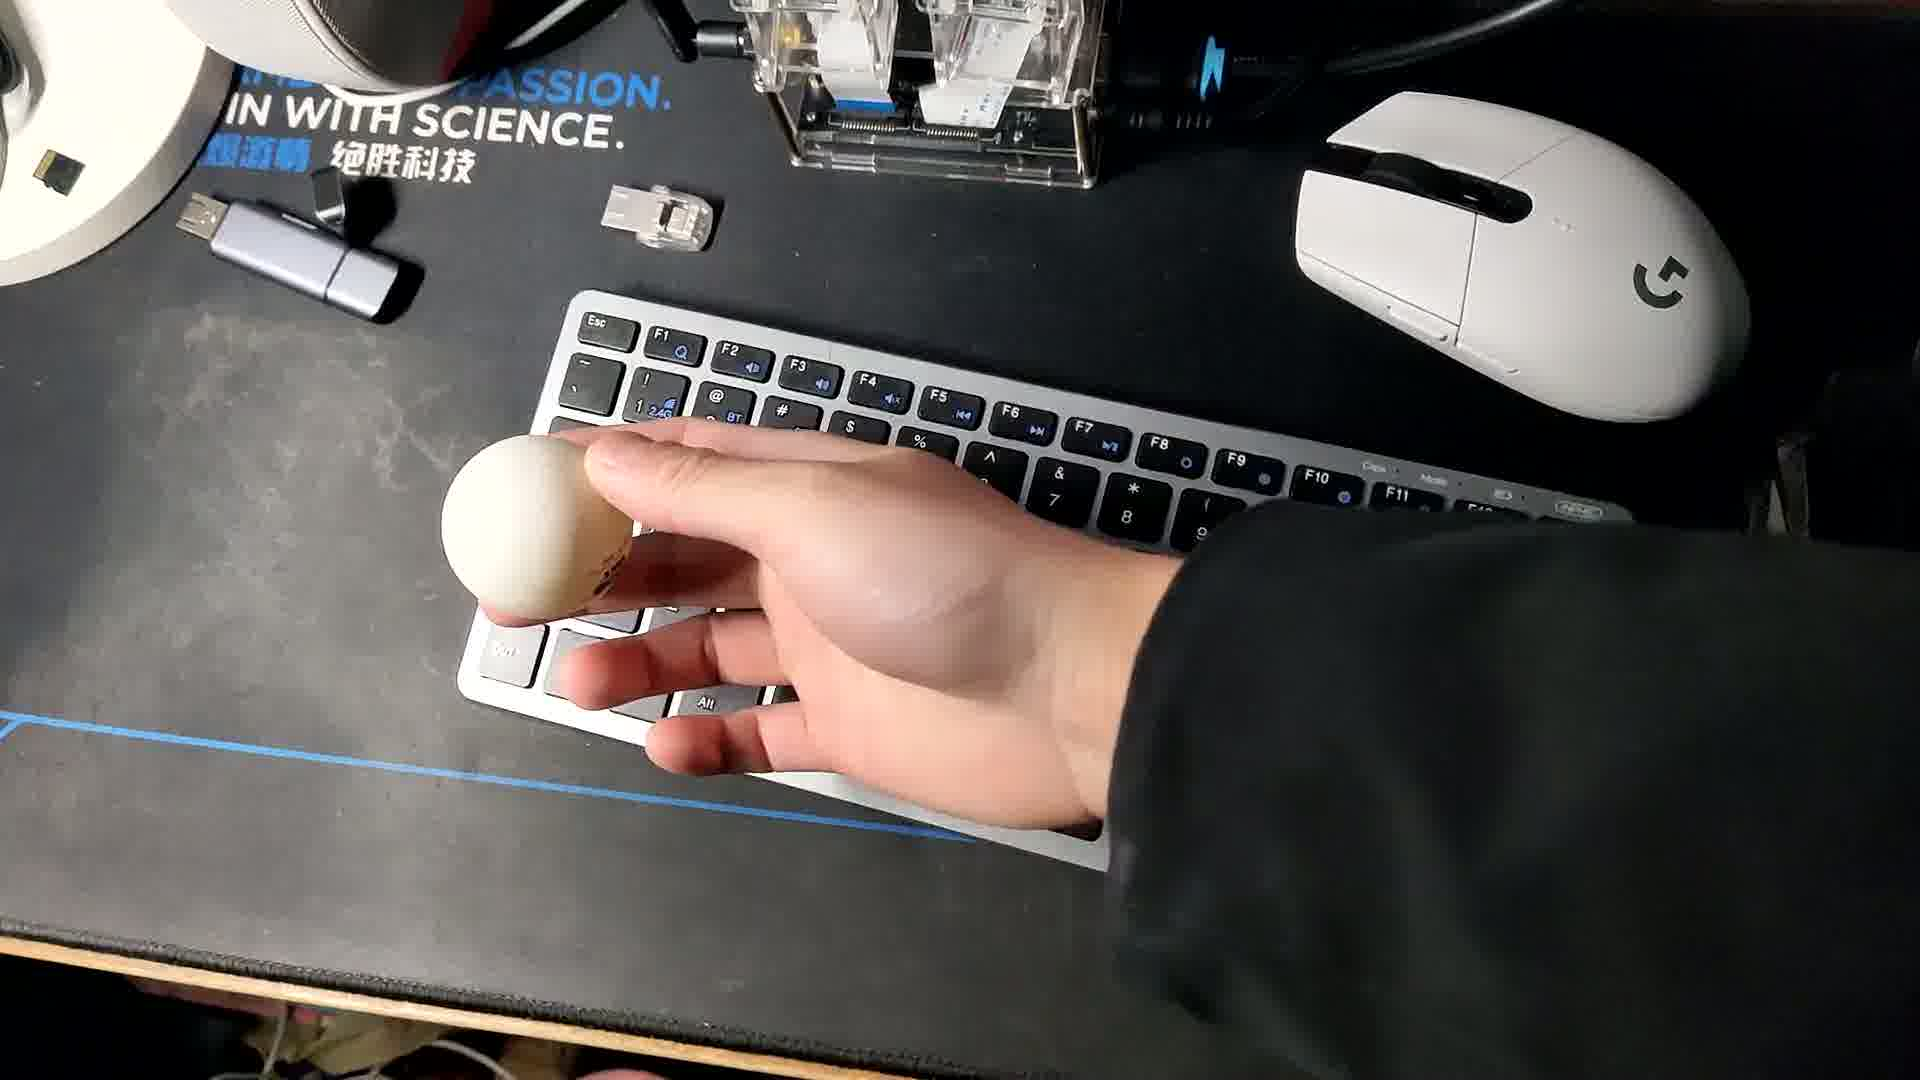Ball: (438, 433, 620, 617)
